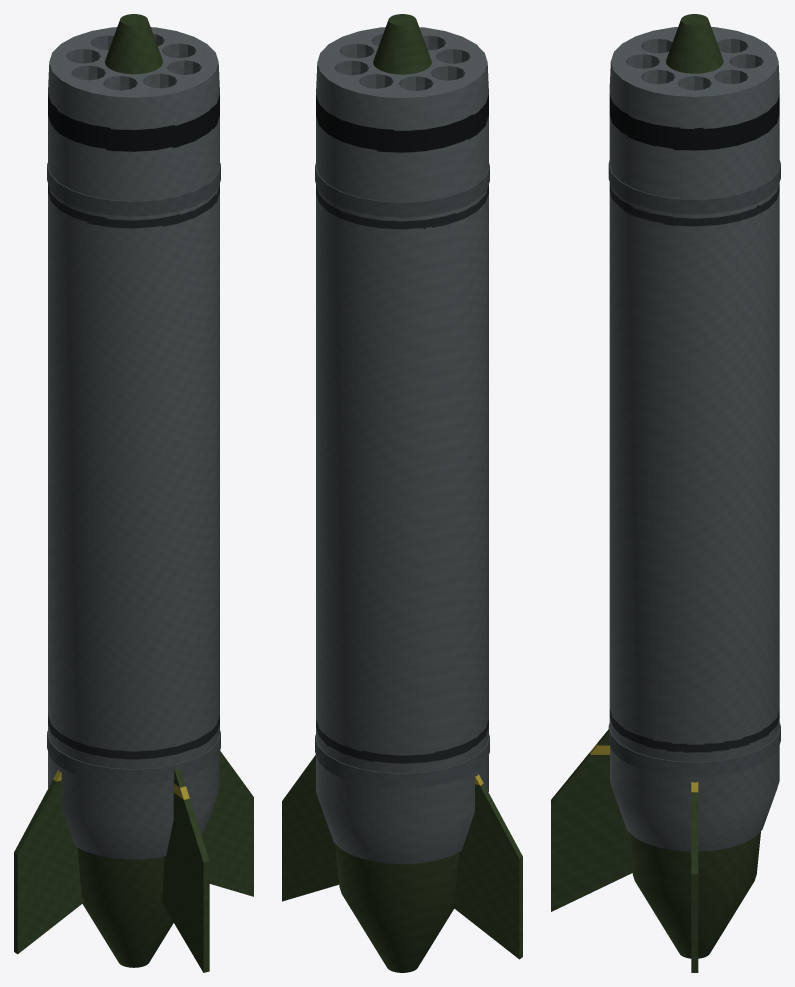
File: aircraft_weapons.glb
3 renders of one model, left to right at view 1: azimuth 30°, elevation 25°; view 2: azimuth 150°, elevation 25°; view 3: azimuth 270°, elevation 25°, orthographic.
Parts seen in each view (by area): view 1: standard_8_rocket_pod_astra_r_4, standard_bomb_0, standard_bomb_1, standard_bomb_3, standard_bomb_2, pod_retaining_band_astra_r_4.001, pod_retaining_band_astra_r_4; view 2: standard_8_rocket_pod_astra_r_4, standard_bomb_0, standard_bomb_1, standard_bomb_2, pod_retaining_band_astra_r_4.001, pod_retaining_band_astra_r_4; view 3: standard_8_rocket_pod_astra_r_4, standard_bomb_0, standard_bomb_3, pod_retaining_band_astra_r_4.001, pod_retaining_band_astra_r_4, standard_bomb_2.
Part boxes in pixels (<box>): standard_8_rocket_pod_astra_r_4: <box>48,27,219,859</box>; standard_bomb_0: <box>77,14,173,967</box>; standard_bomb_1: <box>14,770,84,954</box>; standard_bomb_3: <box>162,768,209,972</box>; standard_bomb_2: <box>202,751,253,896</box>; pod_retaining_band_astra_r_4.001: <box>47,162,220,216</box>; pod_retaining_band_astra_r_4: <box>47,730,220,784</box>; standard_8_rocket_pod_astra_r_4: <box>316,27,488,864</box>; standard_bomb_0: <box>335,14,459,972</box>; standard_bomb_1: <box>452,774,522,959</box>; standard_bomb_2: <box>282,755,339,901</box>; pod_retaining_band_astra_r_4.001: <box>315,163,489,217</box>; pod_retaining_band_astra_r_4: <box>315,734,489,788</box>; standard_8_rocket_pod_astra_r_4: <box>609,27,779,851</box>; standard_bomb_0: <box>628,14,760,958</box>; standard_bomb_3: <box>551,729,632,911</box>; pod_retaining_band_astra_r_4.001: <box>608,160,780,214</box>; pod_retaining_band_astra_r_4: <box>608,723,780,777</box>; standard_bomb_2: <box>691,782,698,972</box>.
Size of the model in its own units: 0.47 by 1.79 by 0.4.
1 material, 1 textured.
